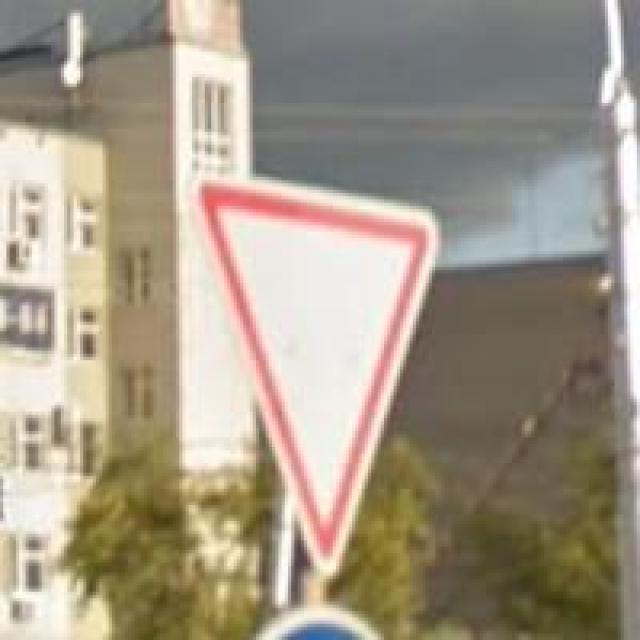Ustap pierwszenstwa: (192, 173, 438, 572)
